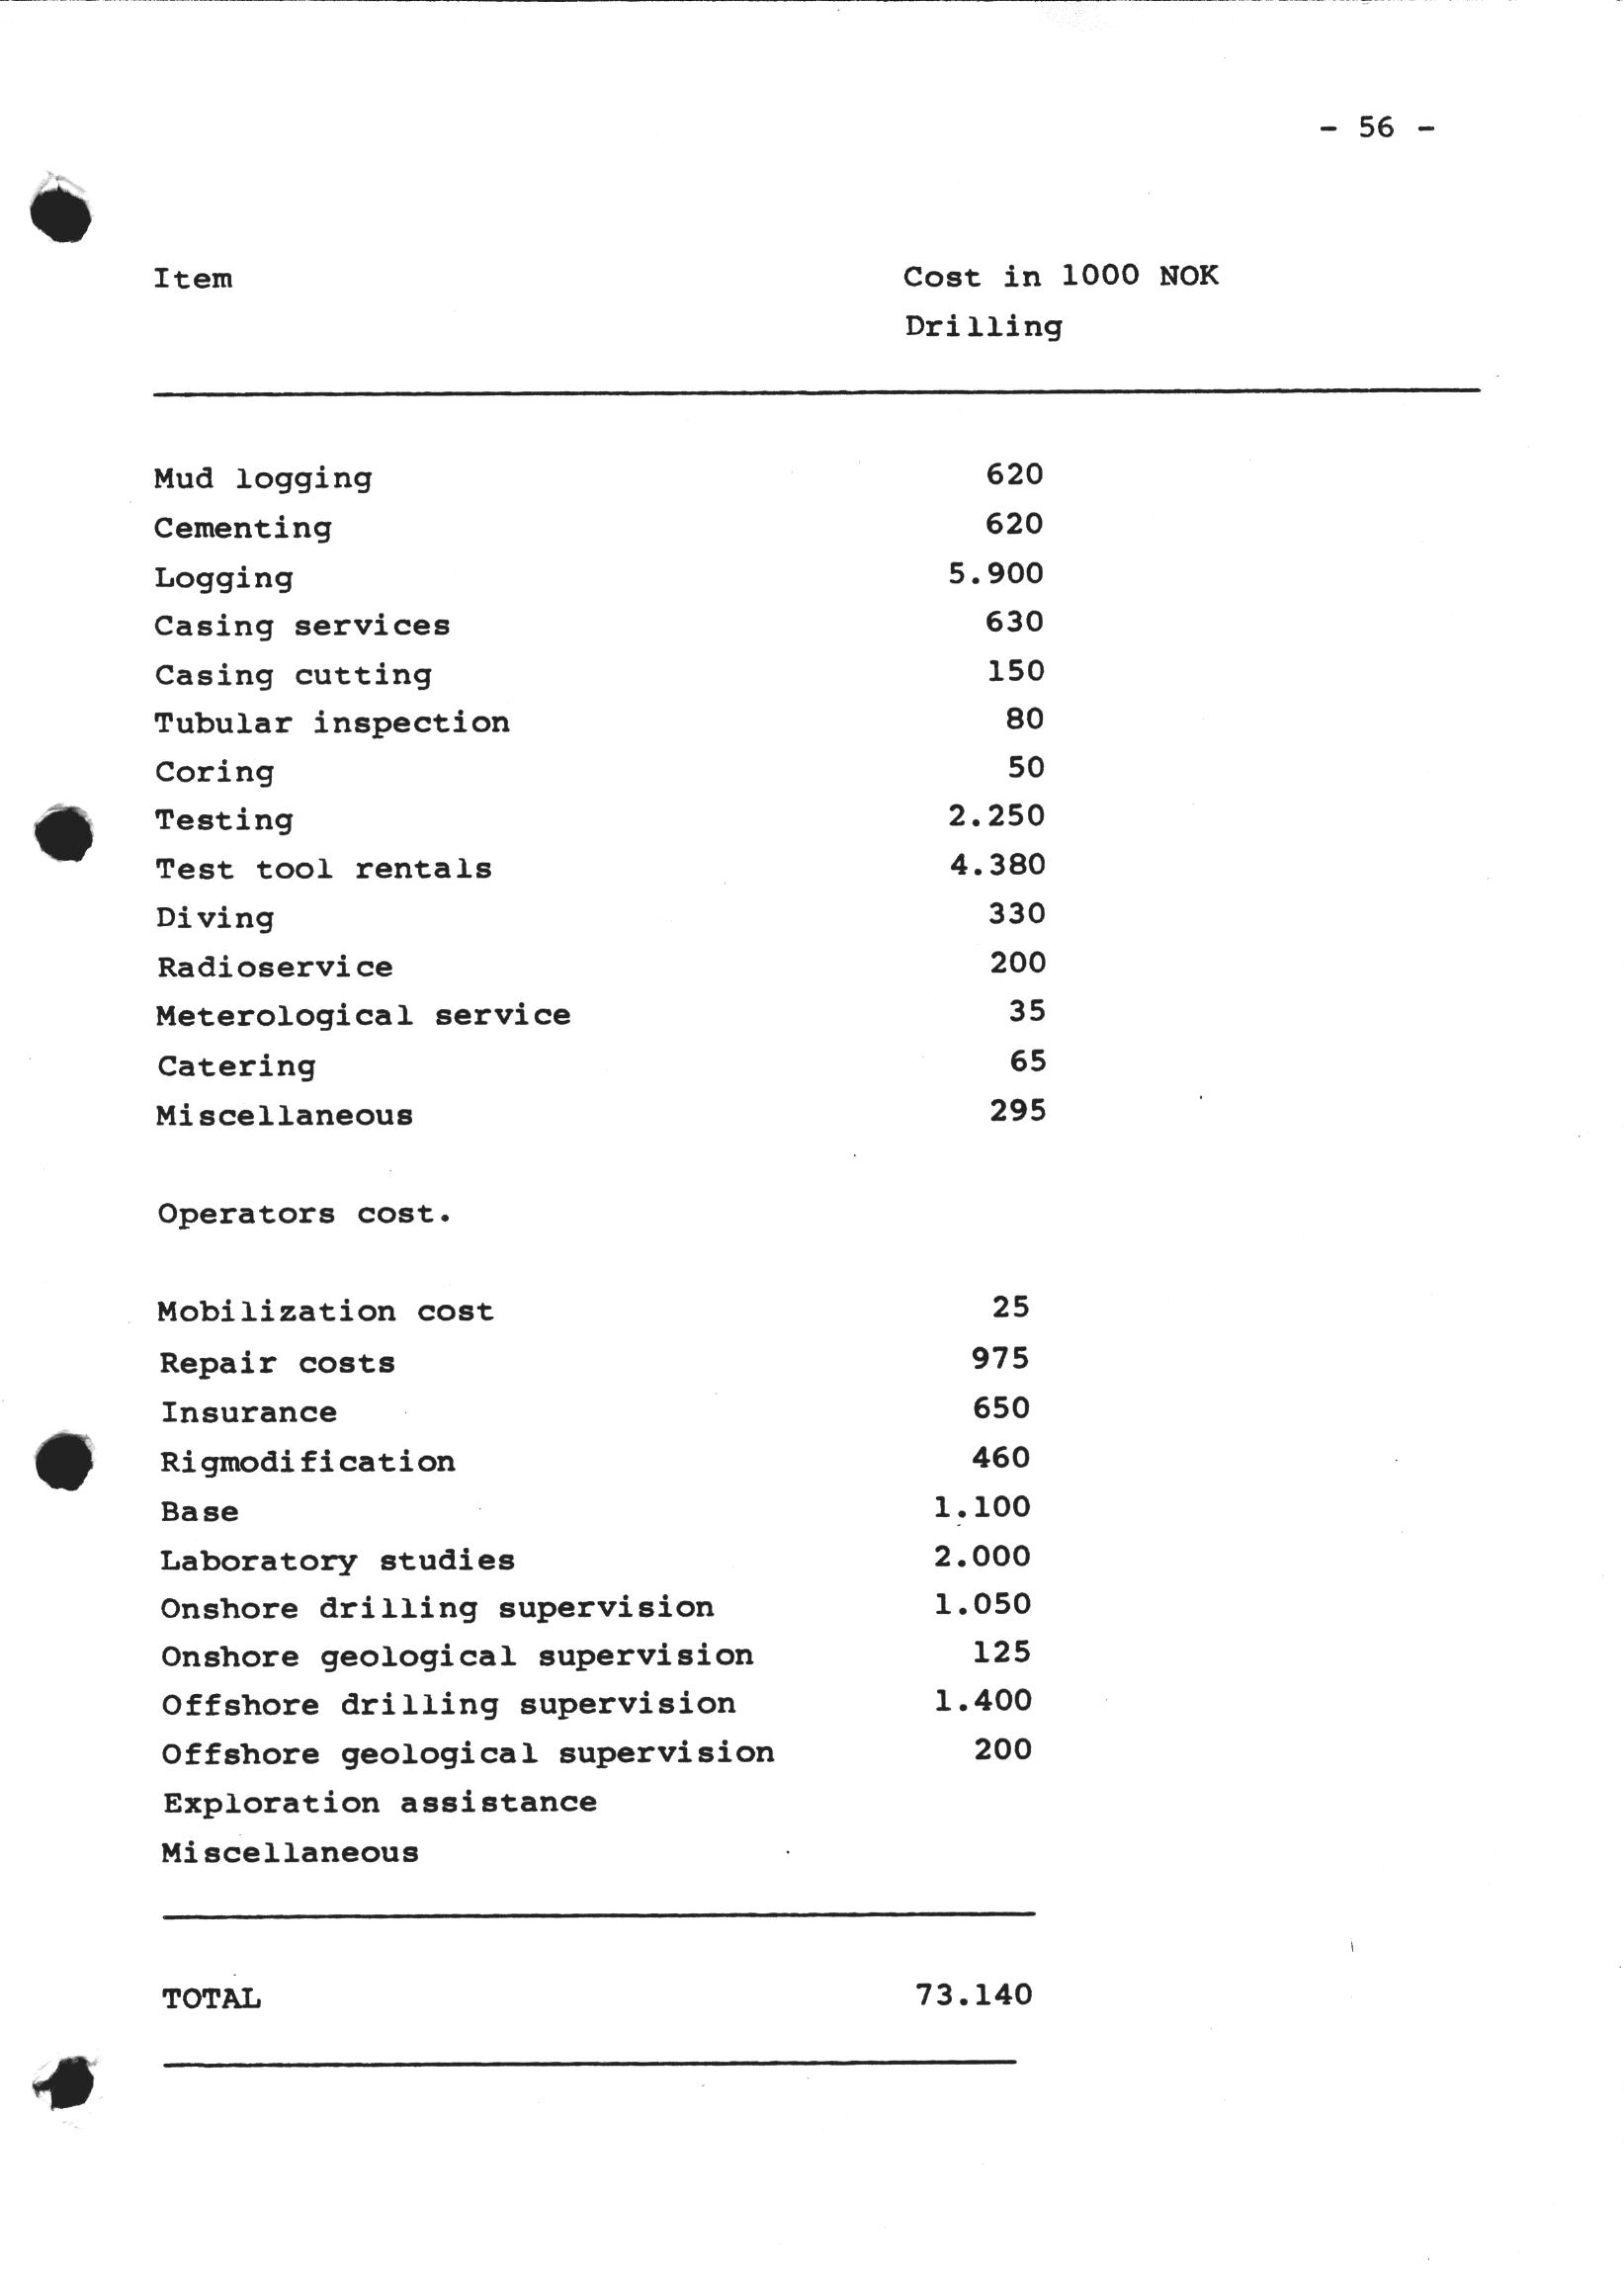table: (105, 228, 1624, 2091)
